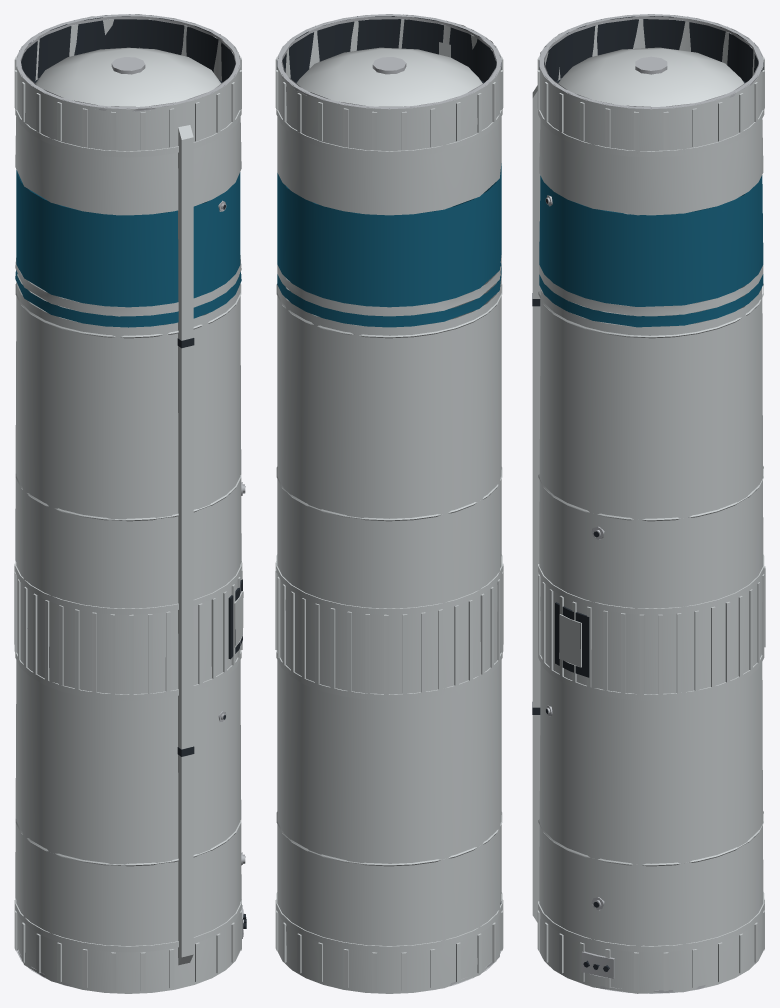
The model's file is tank_s1_l.glb.
The picture shows the model from 3 angles, left to right: view 1: azimuth 30°, elevation 25°; view 2: azimuth 150°, elevation 25°; view 3: azimuth 270°, elevation 25°; orthographic projection.
Parts seen in each view (by area): view 1: tank_s1_l_mesh; view 2: tank_s1_l_mesh; view 3: tank_s1_l_mesh.
Boxes of the visible parts, bbox=[...] form: tank_s1_l_mesh: bbox=[14, 14, 246, 993]; tank_s1_l_mesh: bbox=[275, 14, 503, 993]; tank_s1_l_mesh: bbox=[532, 14, 765, 993].
Bounding box in the file's own units: 5.47 × 23.4 × 5.59.
